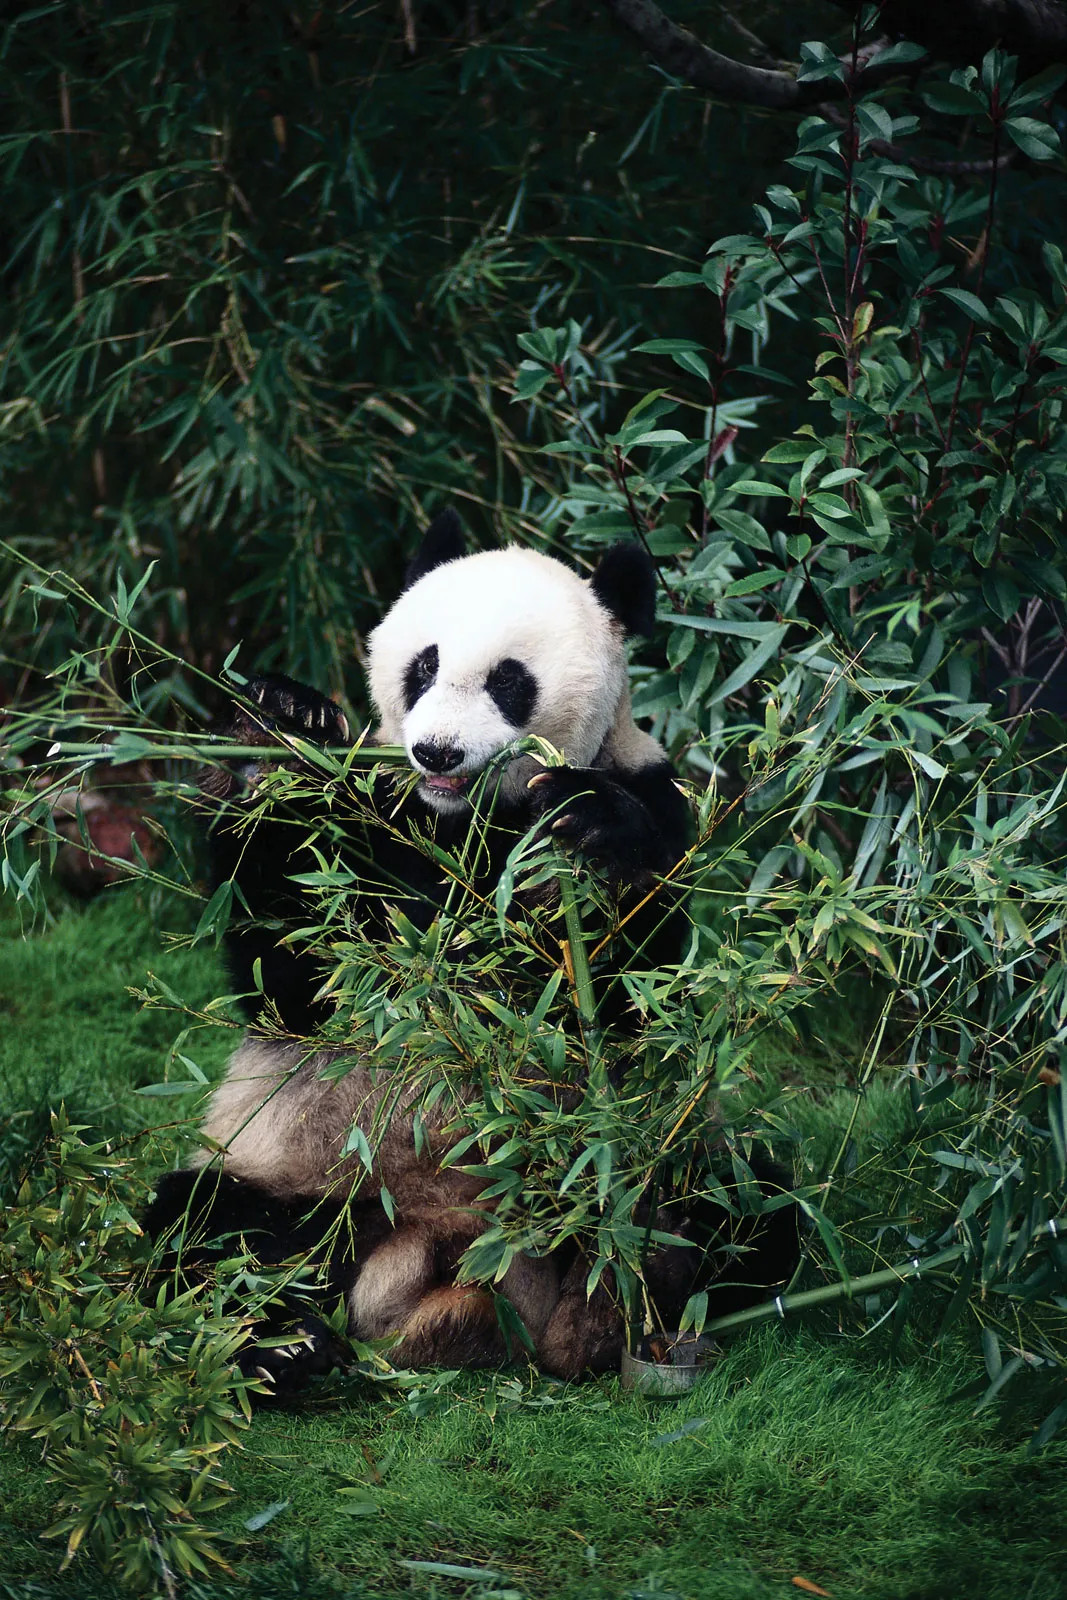Giant panda: (350, 530, 664, 826)
